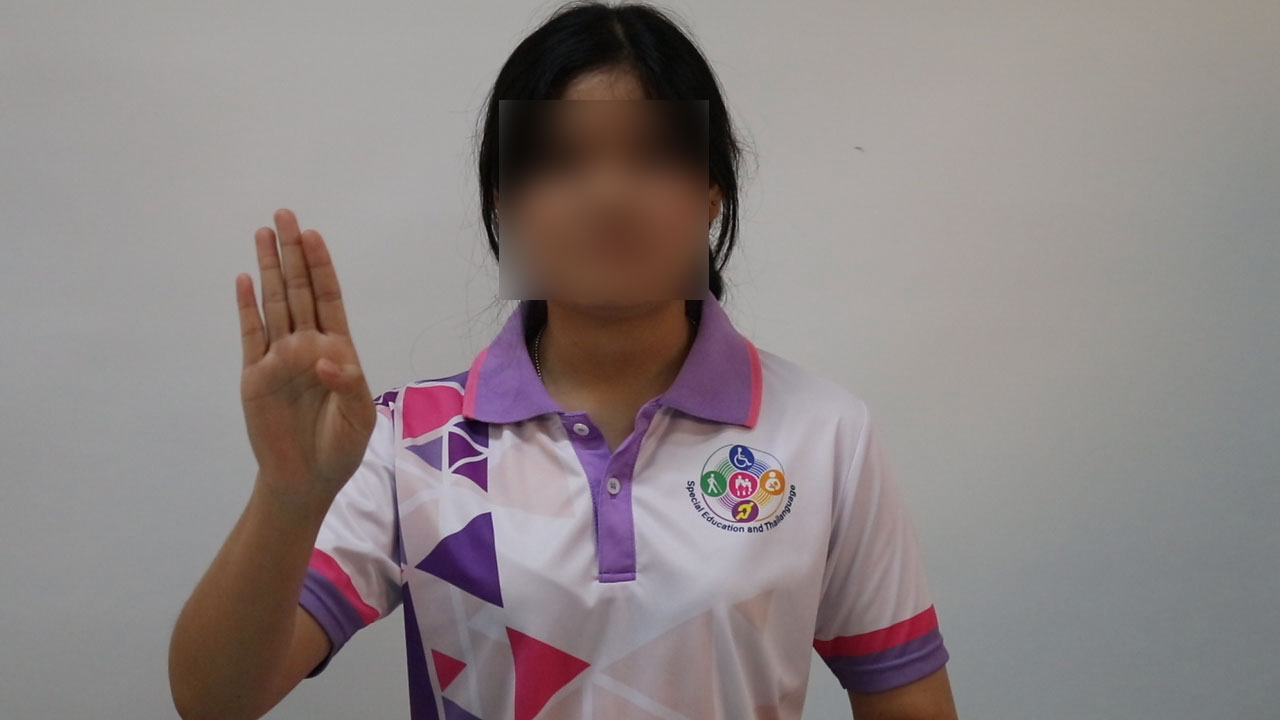bor: (202, 201, 395, 534)
